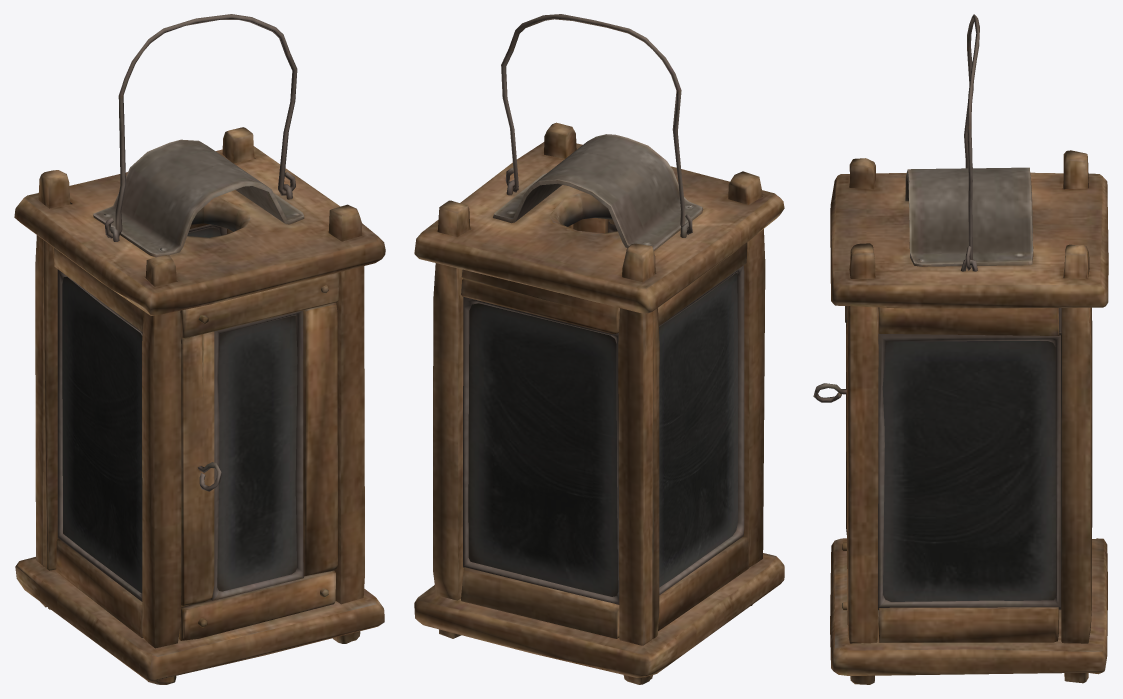
The model's file is wooden_lantern_01.glb.
3 views of the same model, side by side, from view 1: azimuth 30°, elevation 25°; view 2: azimuth 150°, elevation 25°; view 3: azimuth 270°, elevation 25° (orthographic).
Visible parts, largest first — view 1: wooden_lantern_01, wooden_lantern_01_door, wooden_lantern_01_handle; view 2: wooden_lantern_01, wooden_lantern_01_handle; view 3: wooden_lantern_01, wooden_lantern_01_handle, wooden_lantern_01_door.
Part boxes in pixels (bbox=[...]): wooden_lantern_01: bbox=[14, 127, 385, 684]; wooden_lantern_01_door: bbox=[178, 272, 339, 640]; wooden_lantern_01_handle: bbox=[104, 14, 297, 238]; wooden_lantern_01: bbox=[414, 122, 784, 684]; wooden_lantern_01_handle: bbox=[501, 14, 692, 234]; wooden_lantern_01: bbox=[830, 150, 1108, 684]; wooden_lantern_01_handle: bbox=[964, 14, 979, 270]; wooden_lantern_01_door: bbox=[813, 306, 847, 624].
Size of the model in its own units: 0.221 by 0.5296 by 0.2341.
2 materials, 2 textured.
